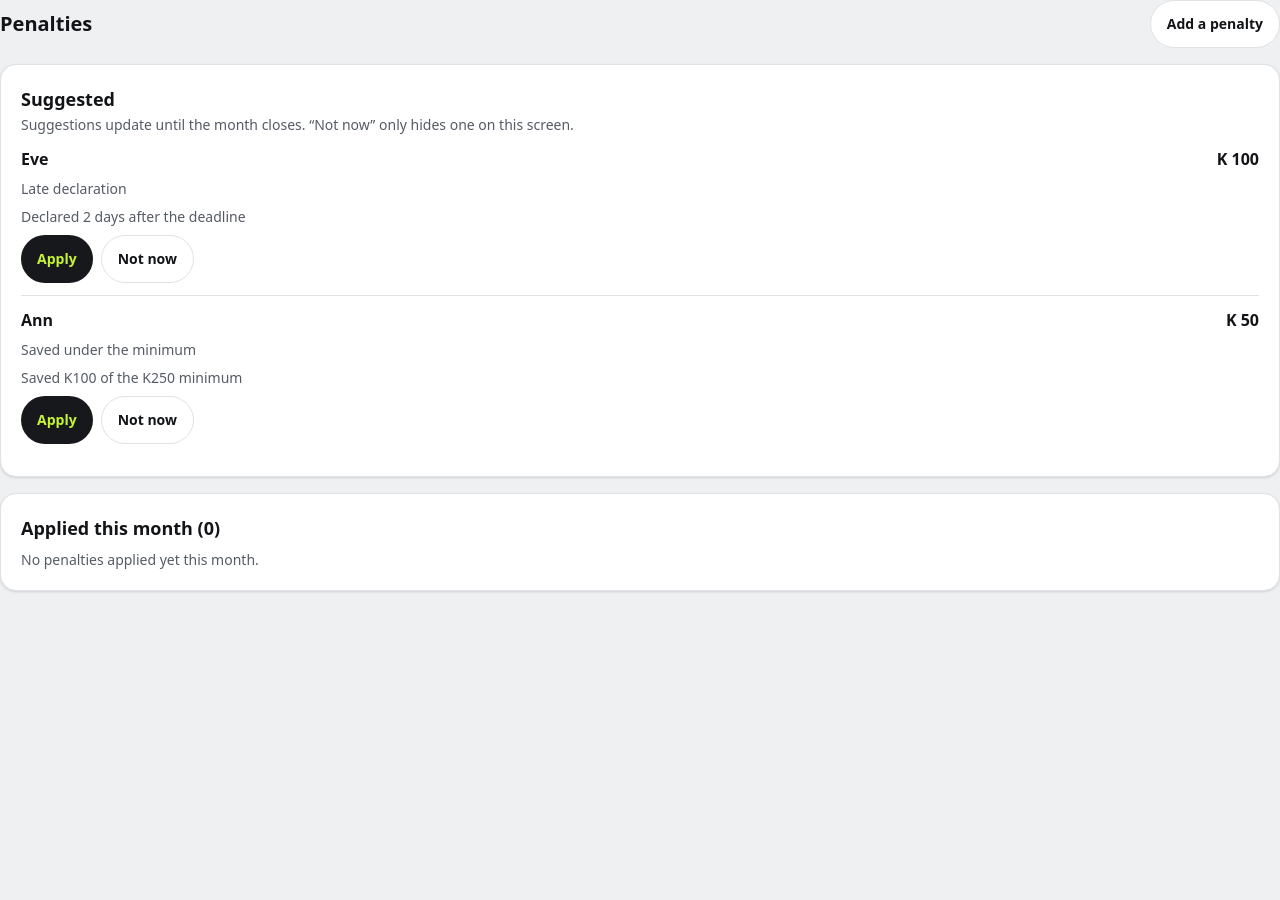
Test: Add a penalty opens an empty sheet with a member to choose
Step 1. Click the button "Add a penalty" → click(1215, 24), box x1=1150 y1=0 x2=1279 y2=48
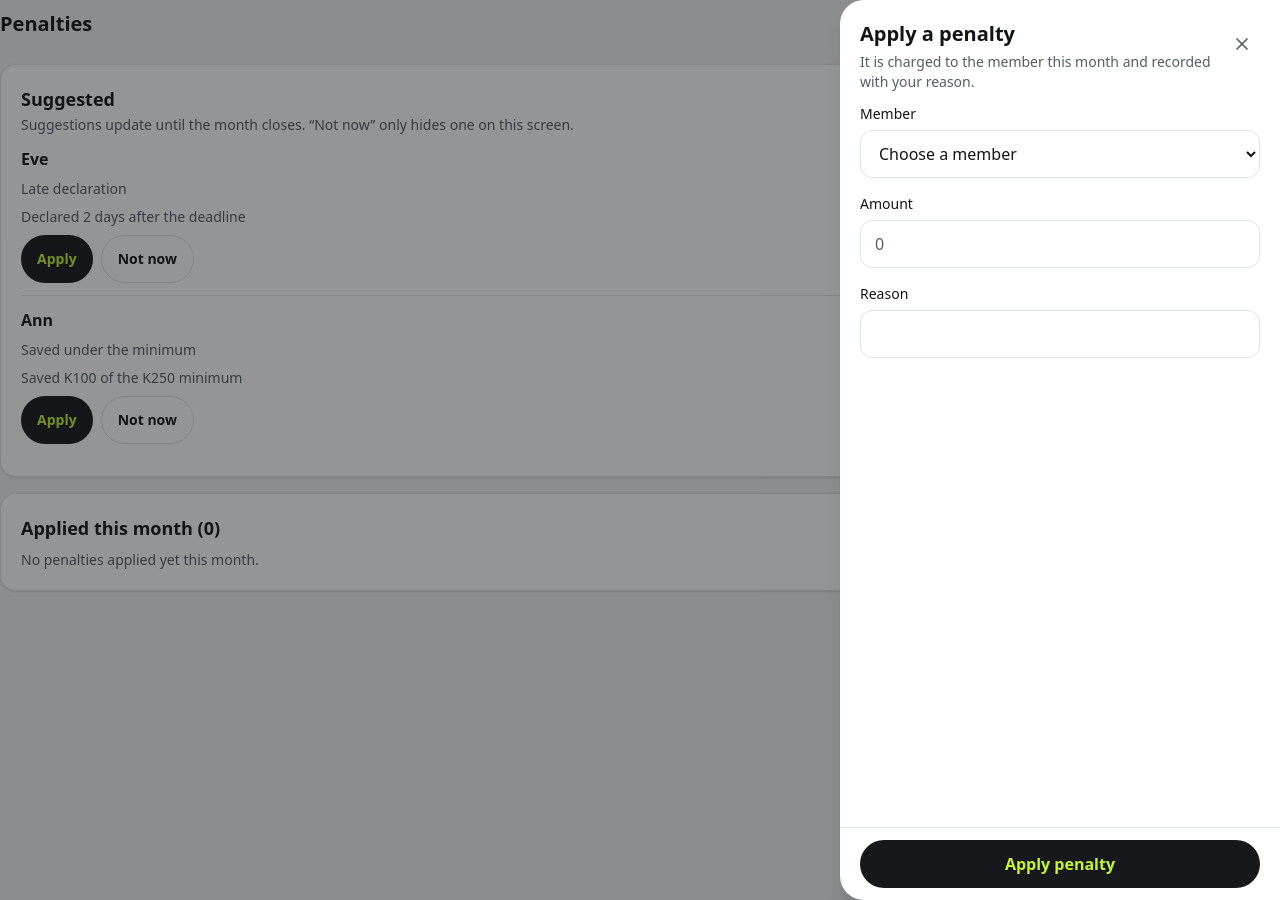
Expected: the dropdown labelled "Member" shows "Choose a member", x1=860 y1=130 x2=1260 y2=178
